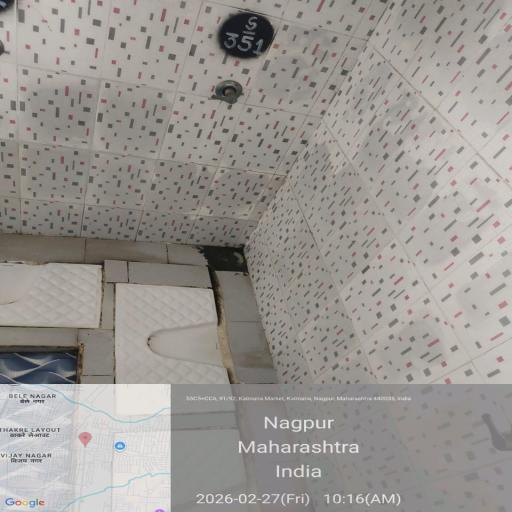clean_floor: (52, 16, 498, 237)
clean_indian: (113, 275, 267, 428)
partial_dirty_floor: (47, 253, 451, 512)
